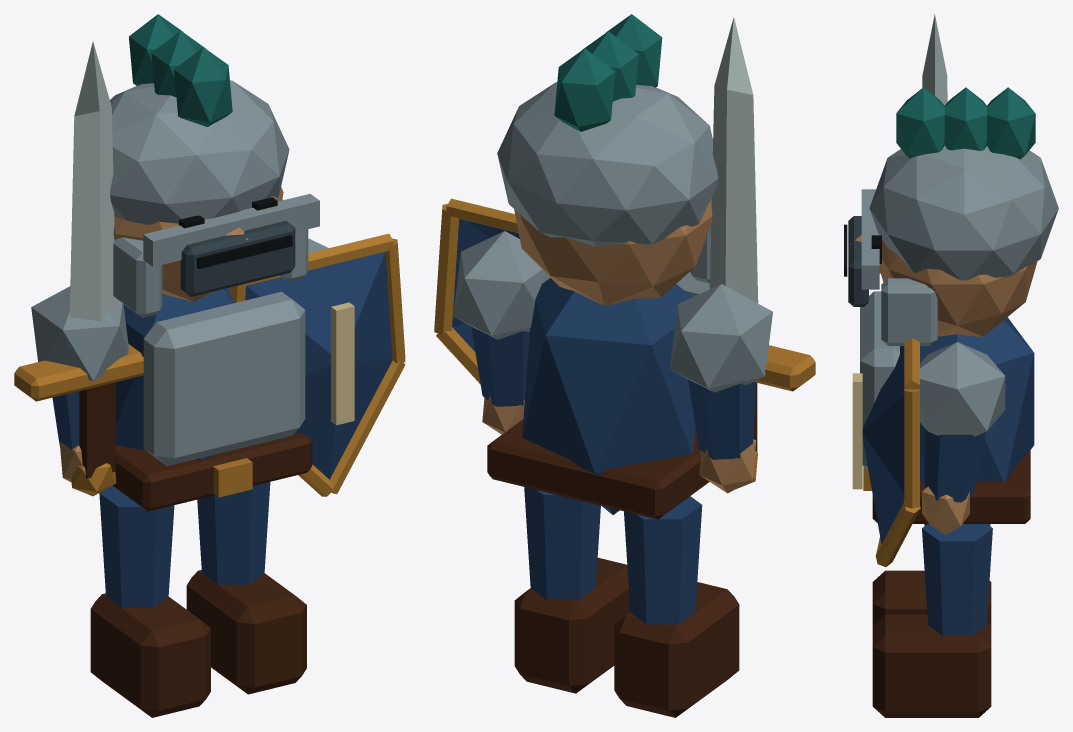
File: Knight.fbx
3 renders of one model, left to right at view 1: azimuth 30°, elevation 25°; view 2: azimuth 150°, elevation 25°; view 3: azimuth 270°, elevation 25°, orthographic. The views are drawn at different scales.
Parts seen in each view (by area): view 1: Head.003_Mesh, Visual.003_Mesh, LeftArm.003_Mesh, RightLeg.003_Mesh, Grip.003_Mesh, LeftLeg.003_Mesh, RightArm.003_Mesh; view 2: Head.003_Mesh, Visual.003_Mesh, RightLeg.003_Mesh, LeftLeg.003_Mesh, LeftArm.003_Mesh, RightArm.003_Mesh, Grip.003_Mesh; view 3: Head.003_Mesh, LeftArm.003_Mesh, LeftLeg.003_Mesh, Visual.003_Mesh, RightLeg.003_Mesh, Grip.003_Mesh.
Boxes of the visible parts, x1,y1,x2,y2 form: Head.003_Mesh: (110, 14, 319, 317); Visual.003_Mesh: (112, 288, 312, 511); LeftArm.003_Mesh: (229, 233, 405, 496); RightLeg.003_Mesh: (90, 485, 210, 717); Grip.003_Mesh: (14, 41, 143, 496); LeftLeg.003_Mesh: (186, 482, 306, 694); RightArm.003_Mesh: (31, 286, 128, 482); Head.003_Mesh: (497, 14, 718, 306); Visual.003_Mesh: (487, 272, 709, 519); RightLeg.003_Mesh: (614, 496, 739, 717); LeftLeg.003_Mesh: (514, 487, 630, 693); LeftArm.003_Mesh: (434, 198, 550, 434); RightArm.003_Mesh: (669, 284, 772, 493); Grip.003_Mesh: (709, 17, 815, 489); Head.003_Mesh: (844, 87, 1058, 345); LeftArm.003_Mesh: (852, 338, 1005, 566); LeftLeg.003_Mesh: (872, 524, 992, 717); Visual.003_Mesh: (860, 291, 1034, 523); RightLeg.003_Mesh: (872, 524, 991, 625); Grip.003_Mesh: (922, 14, 947, 105).
Size of the model in its own units: 0.711 by 1.22 by 0.381.
